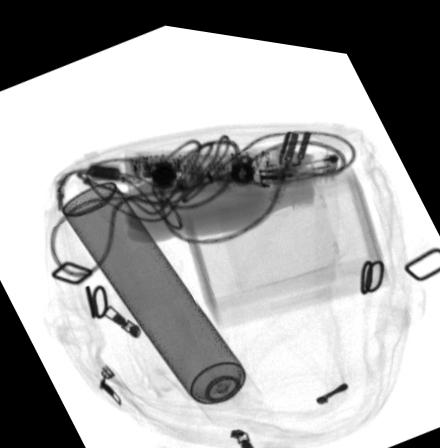Lighter: (258, 137, 339, 176)
Sprayer: (60, 178, 263, 421)
